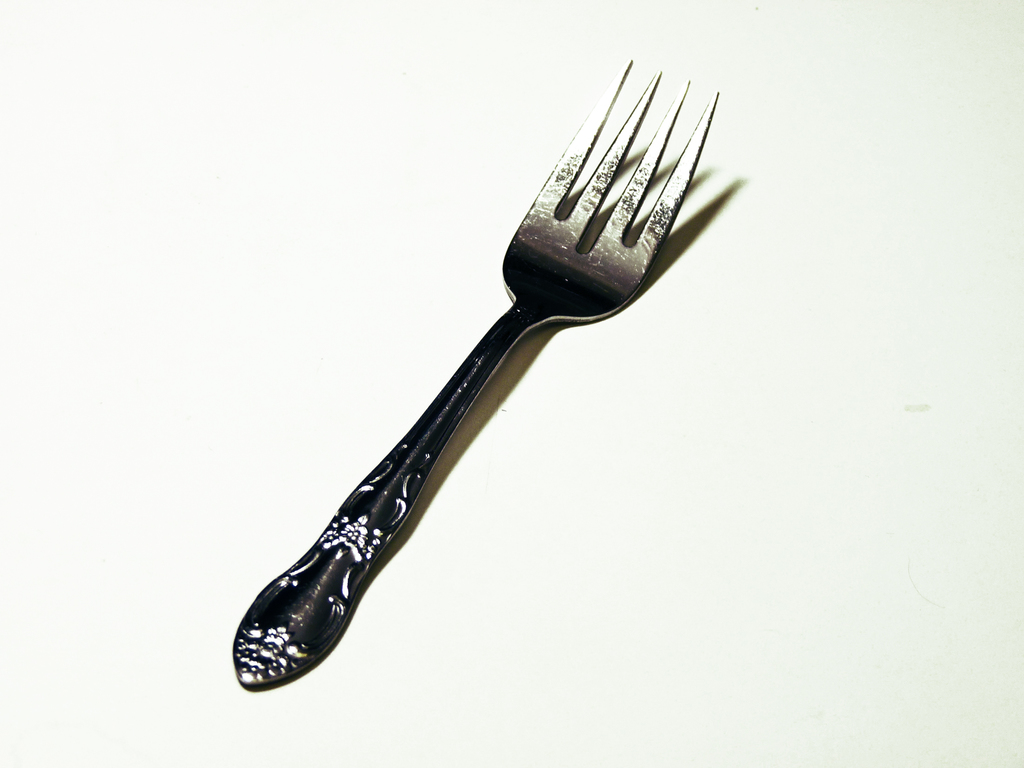fork: (232, 58, 719, 687)
